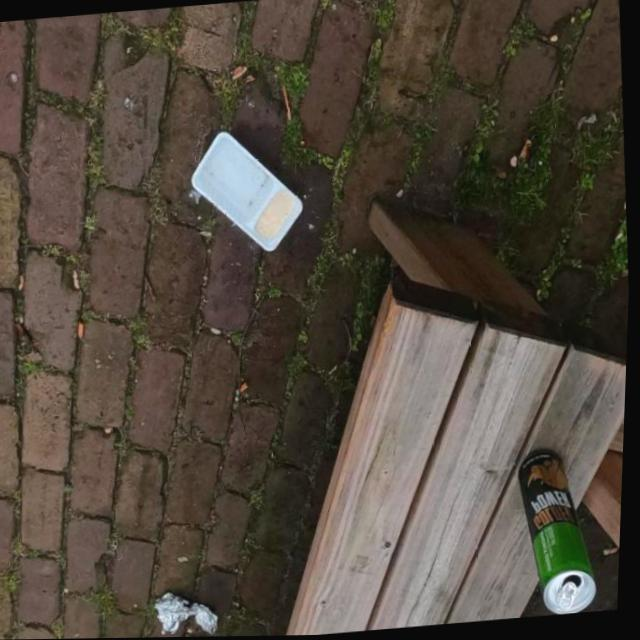Can-Metal: (518, 432, 611, 618)
